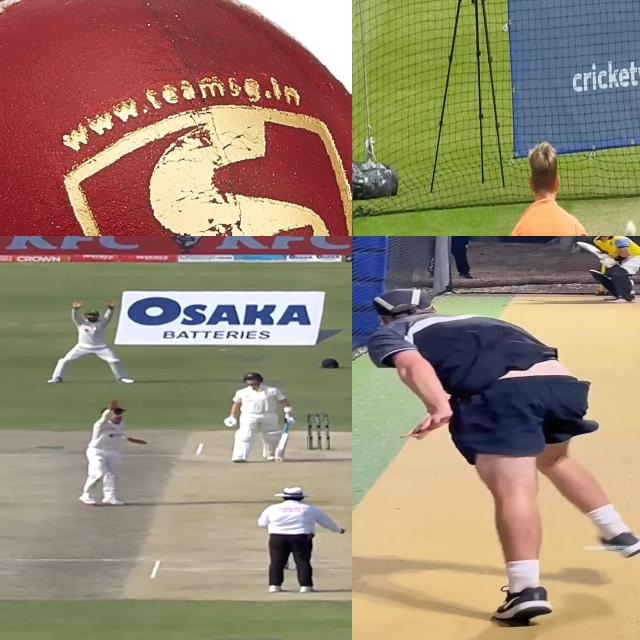Cricket ball: (0, 0, 352, 236), (623, 216, 636, 236)
Stumps: (306, 413, 330, 451)
